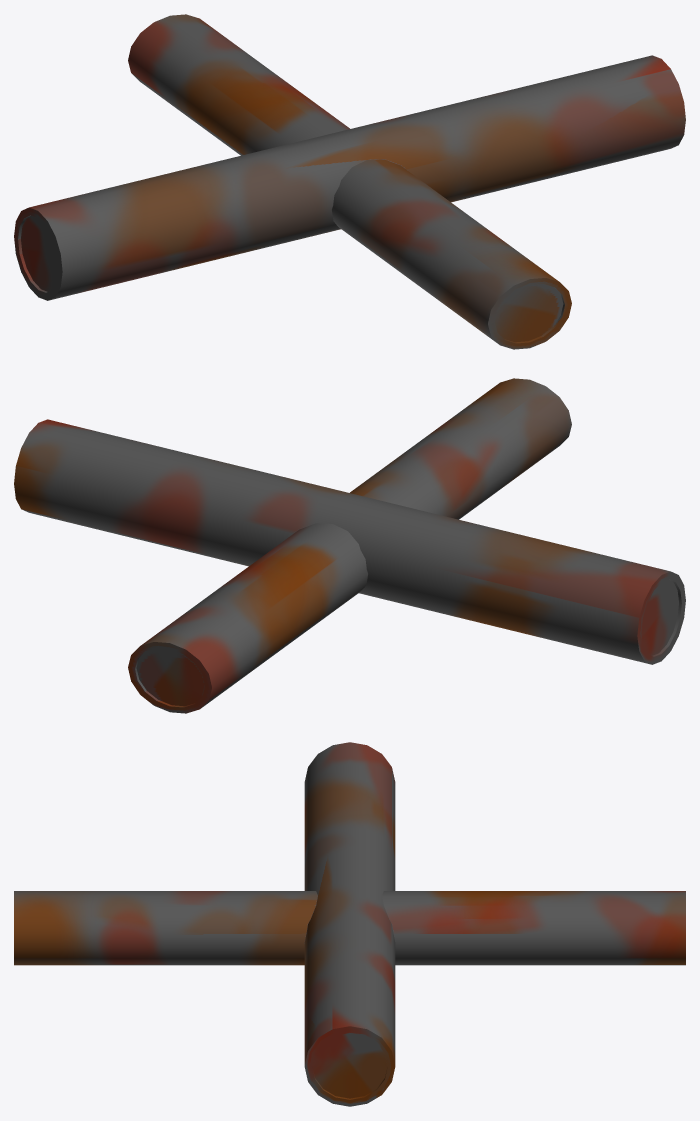
The model's file is pipe 3.glb.
3 views of the same model, one above another, from view 1: azimuth 30°, elevation 25°; view 2: azimuth 150°, elevation 25°; view 3: azimuth 270°, elevation 25° (orthographic). The views are drawn at different scales.
Parts seen in each view (by area): view 1: Cylinder; view 2: Cylinder; view 3: Cylinder.
Boxes of the visible parts, <box> form: Cylinder: <box>14,14,685,349</box>; Cylinder: <box>14,378,685,713</box>; Cylinder: <box>14,742,685,1106</box>.
Bounding box in the file's own units: 1.55 × 0.2055 × 1.55.
1 material, 1 textured.
